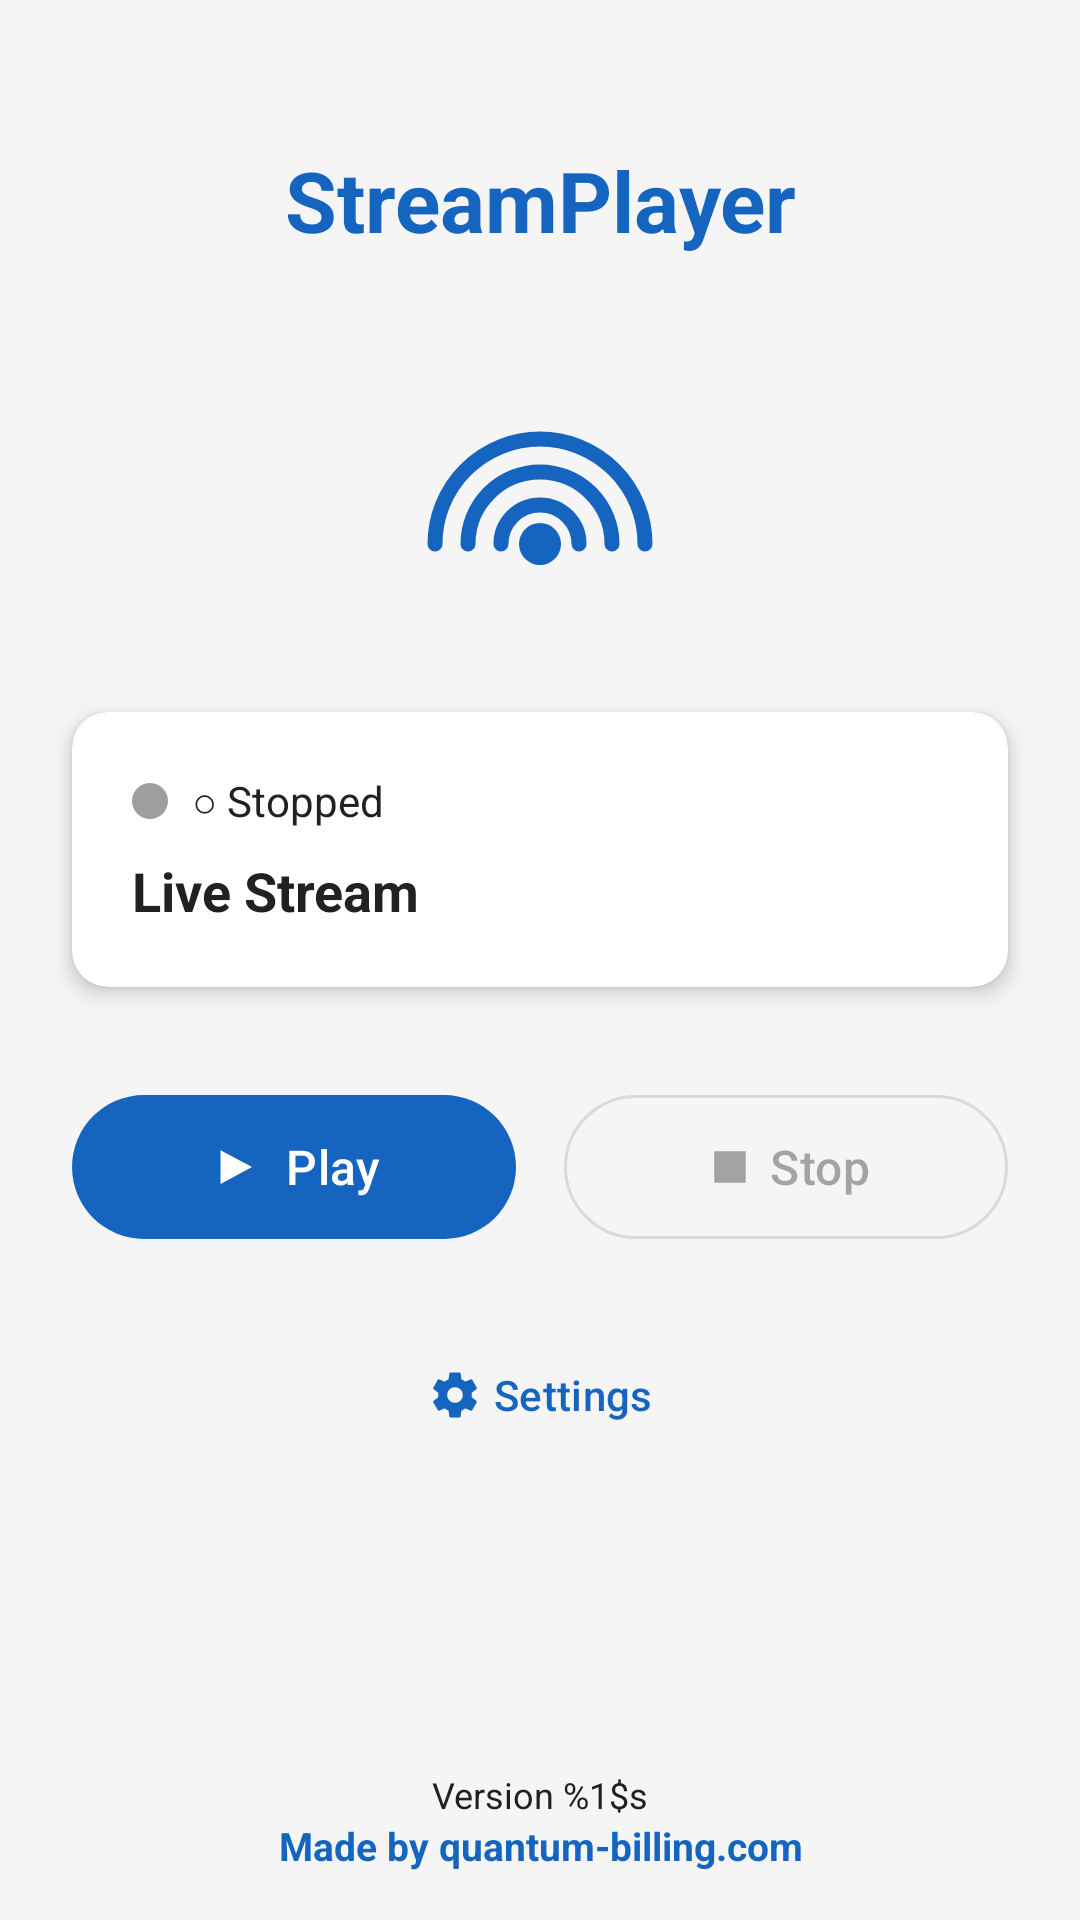

Icons on this 1080 x 1920 Android screen, each with its box as detection(x1, y1, x2, y2):
Radio icon: detection(427, 431, 653, 565)
